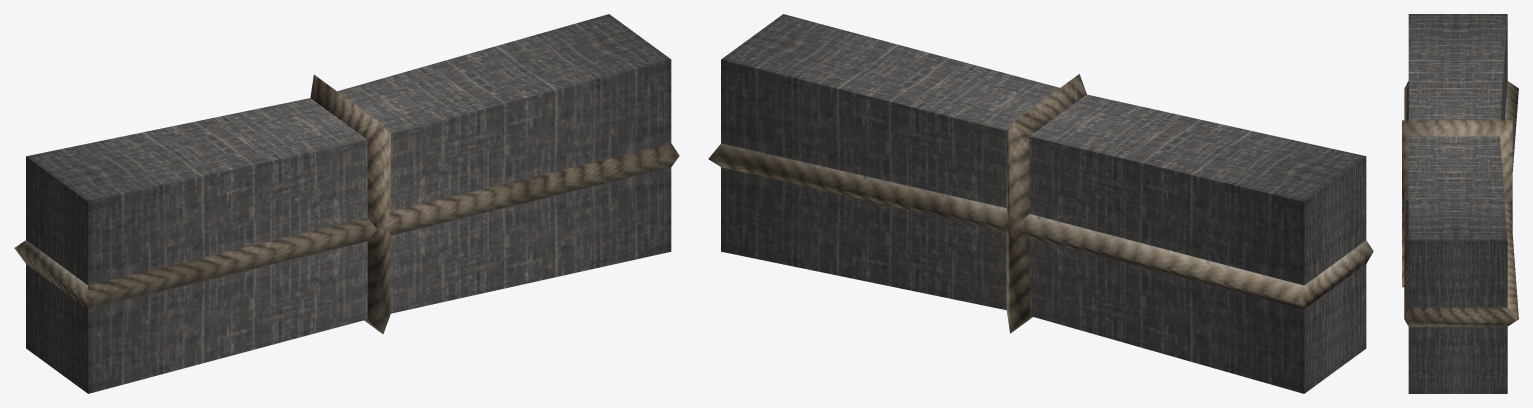
The model's file is Package_Type_03_B.fbx.
3 renders of one model, left to right at view 1: azimuth 30°, elevation 25°; view 2: azimuth 150°, elevation 25°; view 3: azimuth 270°, elevation 25°, orthographic. The views are drawn at different scales.
Visible parts, largest first — view 1: Package_Type_03_B; view 2: Package_Type_03_B; view 3: Package_Type_03_B.
Boxes of the visible parts, x1,y1,x2,y2 form: Package_Type_03_B: (14,14,679,393); Package_Type_03_B: (708,14,1373,393); Package_Type_03_B: (1402,14,1518,393).
Bounding box in the file's own units: 1.21 × 0.409 × 0.2598.
